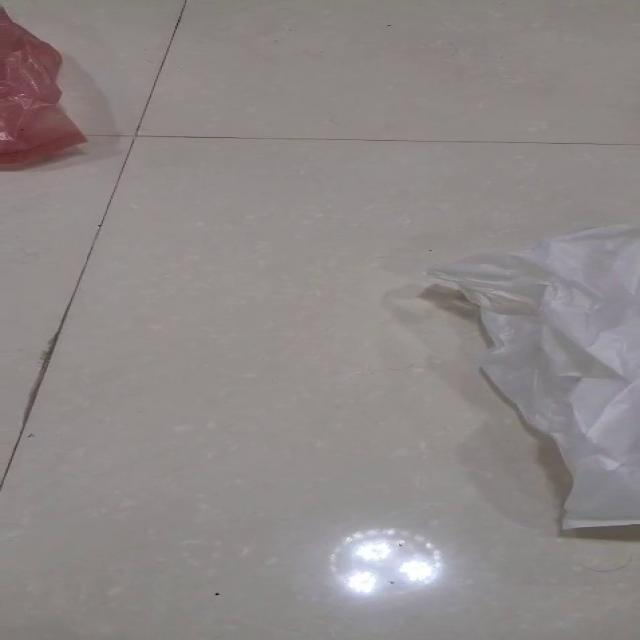plastic: (423, 223, 639, 530), (0, 6, 88, 165)
